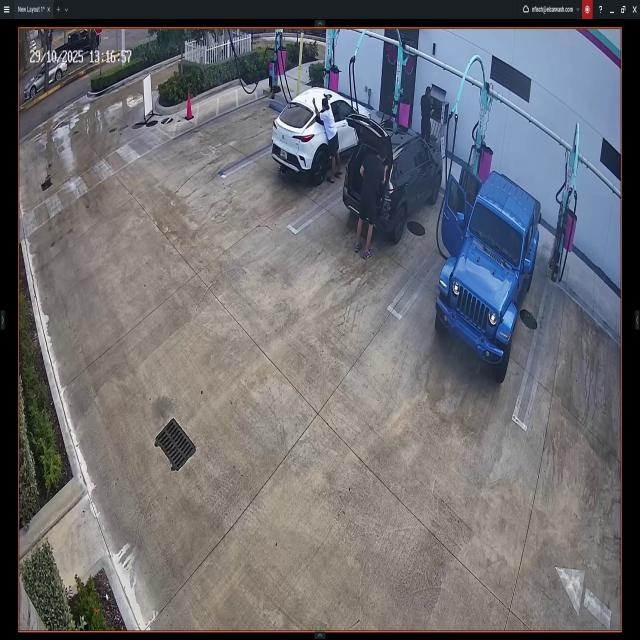Car: (439, 166, 534, 366), (343, 121, 442, 241), (272, 86, 369, 190)
